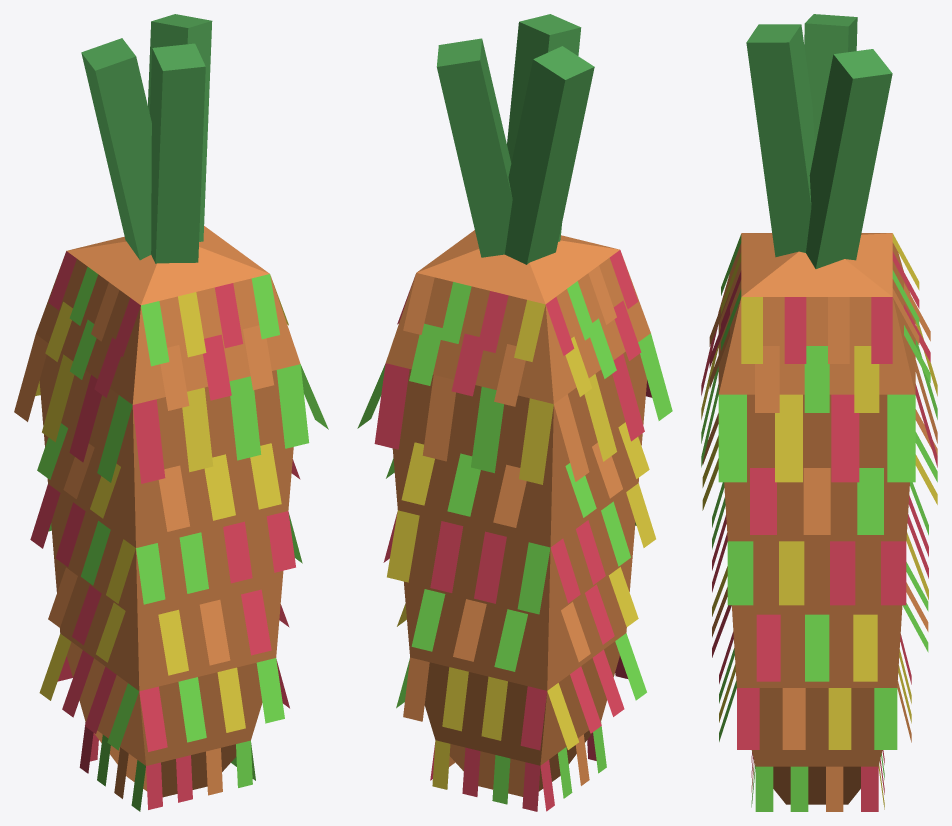
The model's file is pinata.glb.
The picture shows the model from 3 angles, left to right: view 1: azimuth 30°, elevation 25°; view 2: azimuth 150°, elevation 25°; view 3: azimuth 270°, elevation 25°; orthographic projection.
Visible parts, largest first — view 1: Cube.003; view 2: Cube.003; view 3: Cube.003.
Boxes of the visible parts, x1,y1,x2,y2 form: Cube.003: (14,14,328,811); Cube.003: (357,14,672,811); Cube.003: (701,14,937,811).
Size of the model in its own units: 5.26 by 17.16 by 4.86.
